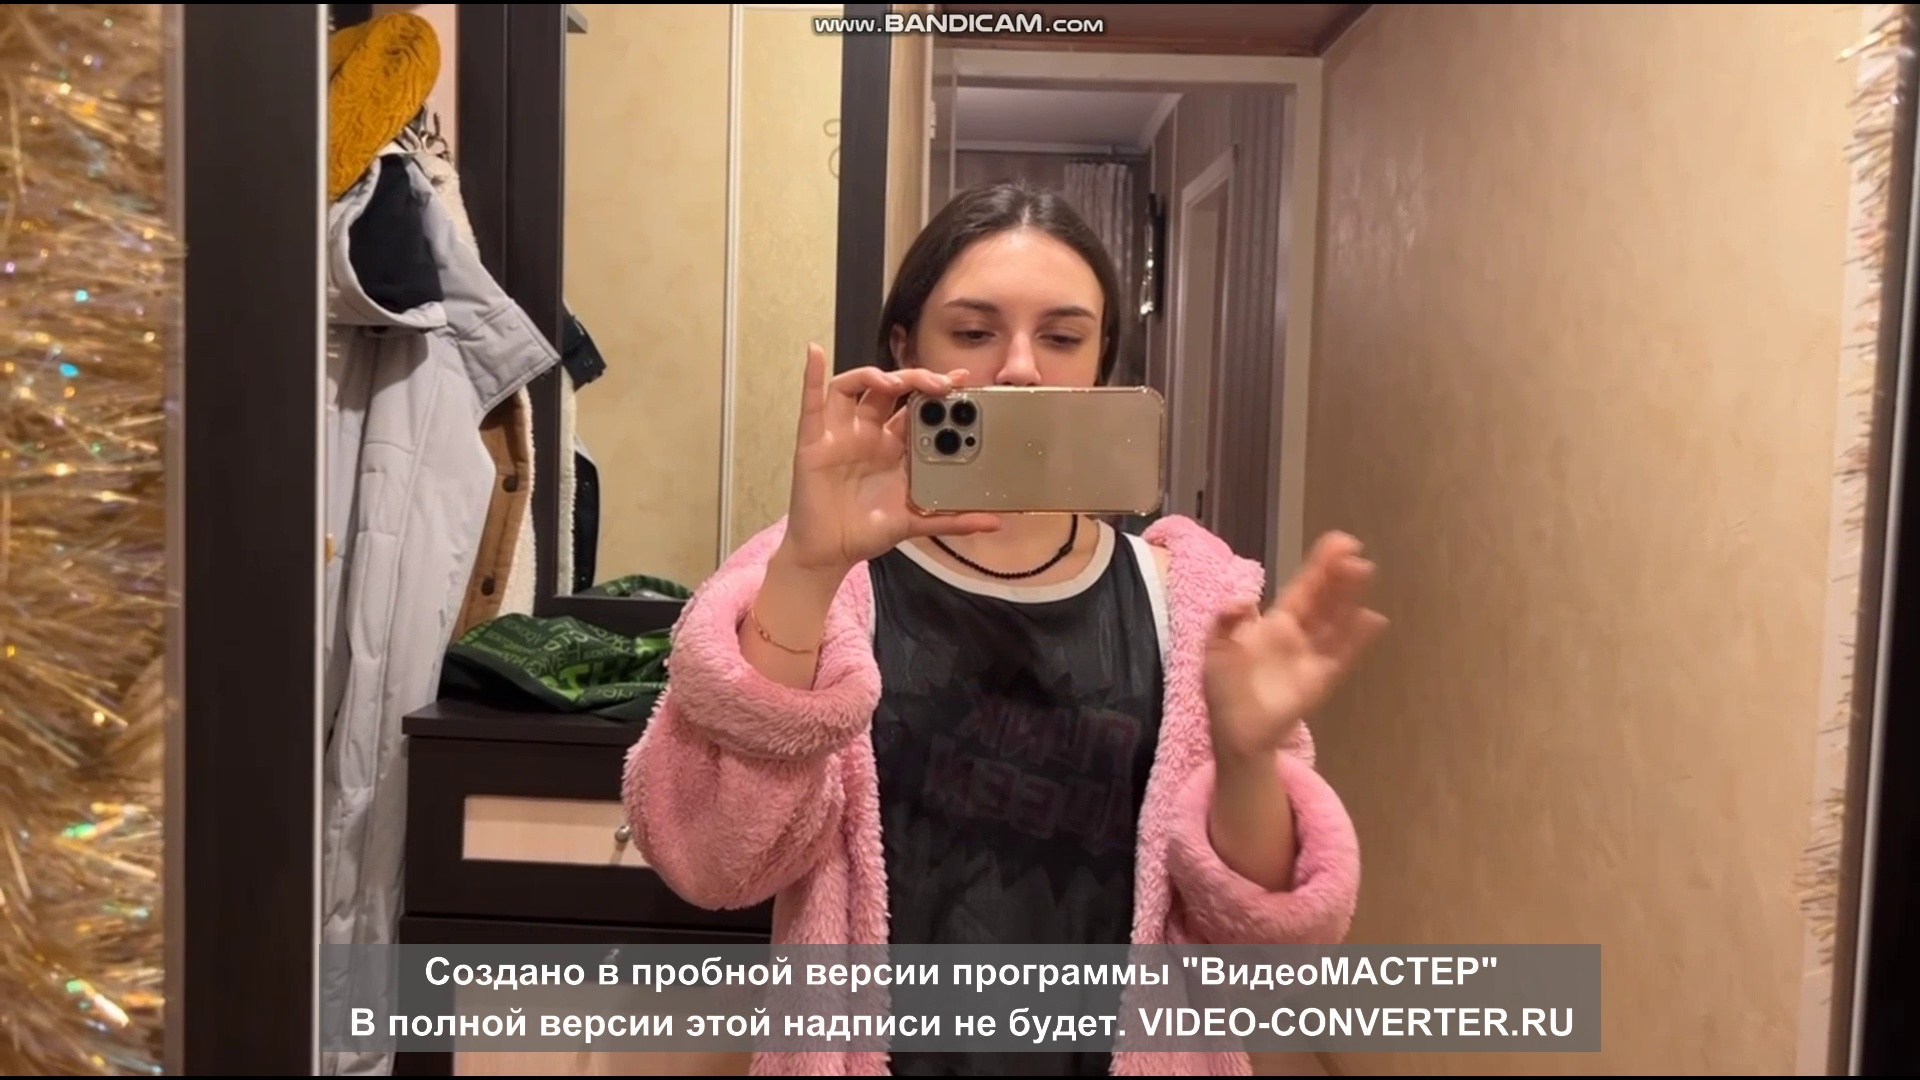Ладонь: (1196, 533, 1389, 749)
